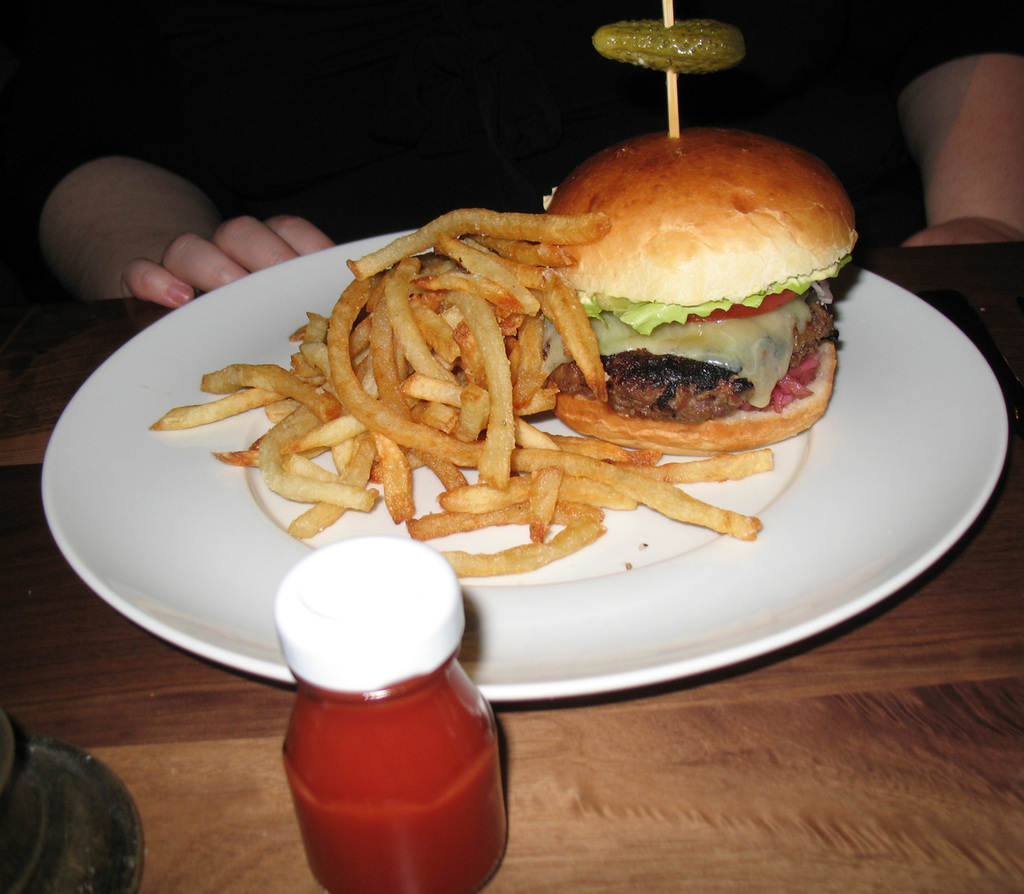French fries: (144, 188, 779, 561)
